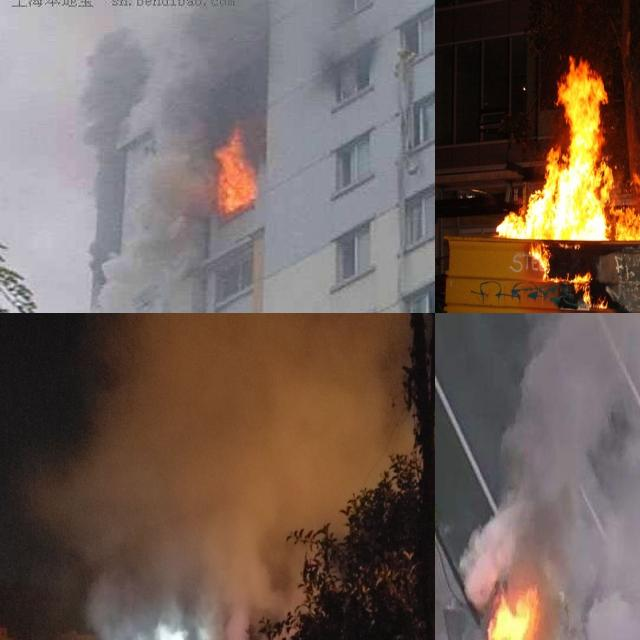fire: (499, 61, 640, 245), (456, 575, 539, 640), (206, 133, 268, 220)
smoke: (23, 313, 410, 640), (461, 314, 640, 640), (92, 0, 268, 146), (97, 150, 206, 313)
